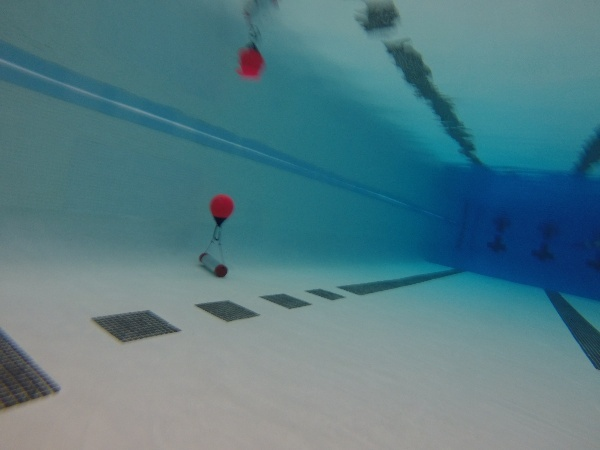buoy_red: (208, 191, 235, 228)
